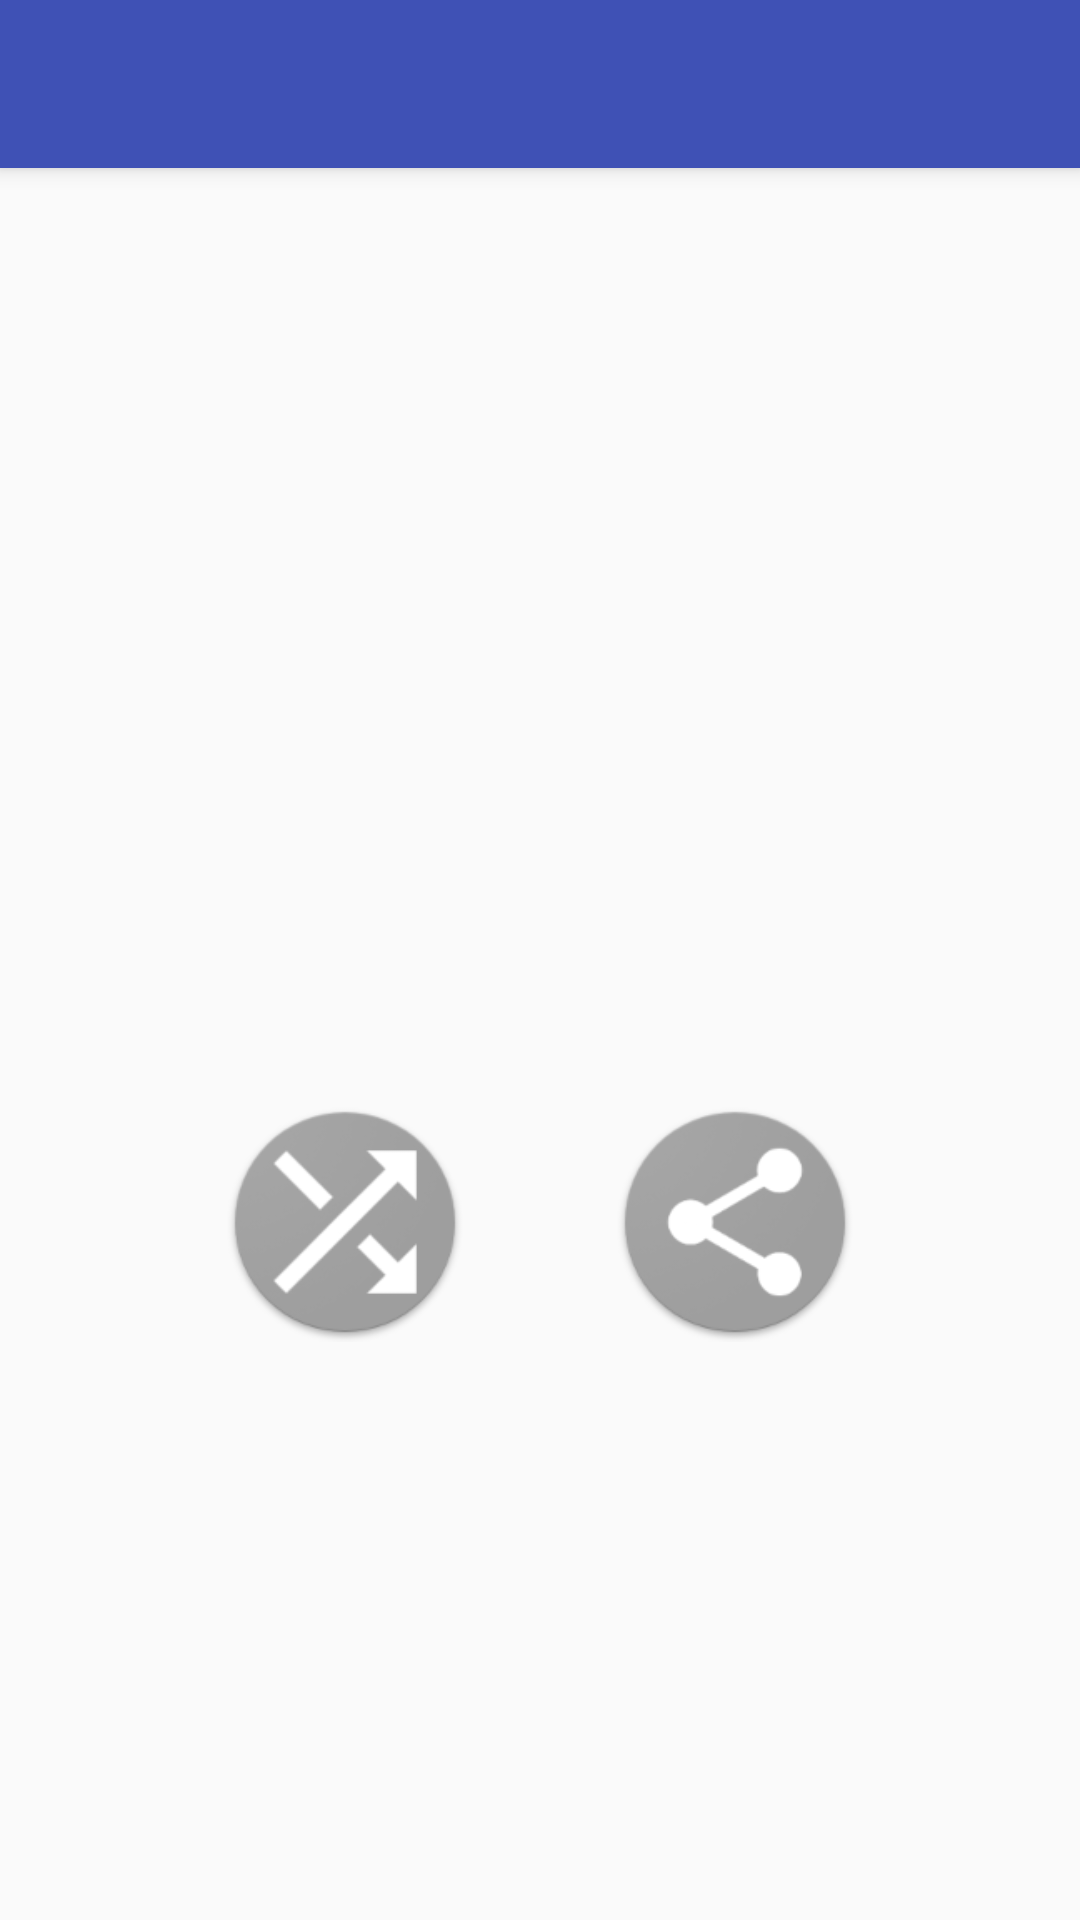

Icon bounding boxes for this 1080px x 1920px phone screenshot, format rect(x1, y1, x2, y2):
share: rect(623, 1112, 847, 1337)
shuffle: rect(233, 1112, 457, 1337)
